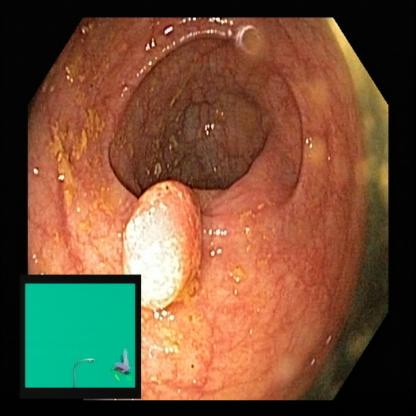Labels: (22, 275, 141, 400)
Polyps: (122, 188, 203, 309)
